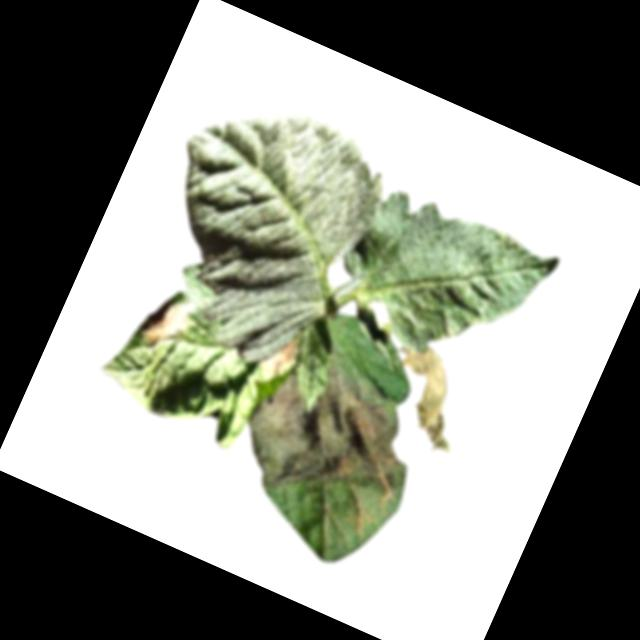Late_blight: (223, 344, 424, 537), (367, 336, 486, 459), (136, 290, 194, 354), (257, 329, 302, 381)
healthy: (115, 72, 401, 385), (321, 175, 562, 389)
